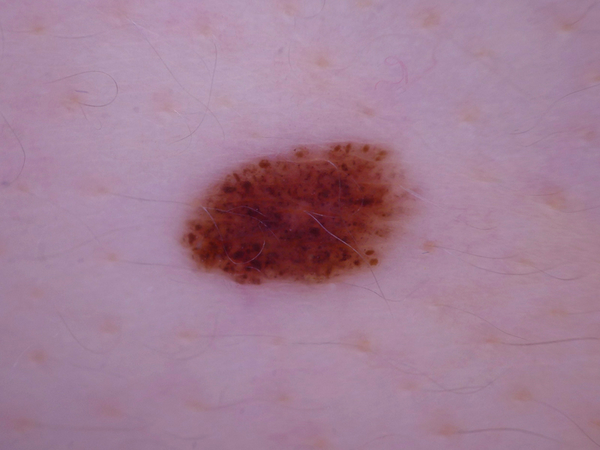Detected Lesion: (177, 137, 416, 292)
